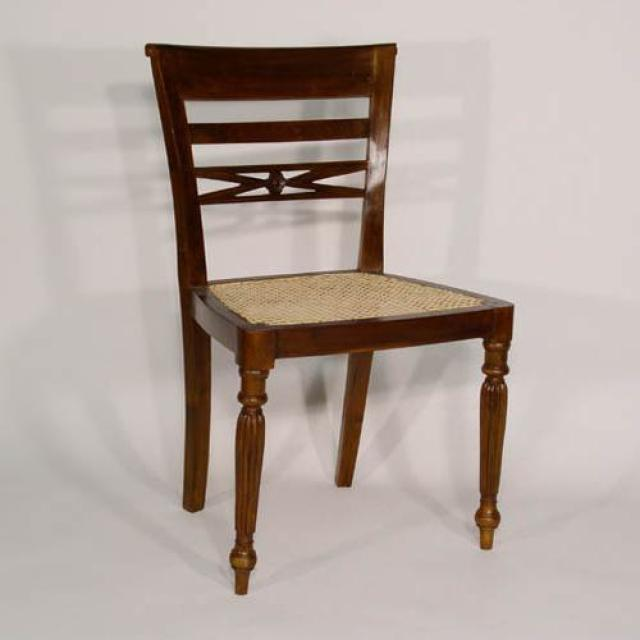chair: (145, 44, 516, 596)
